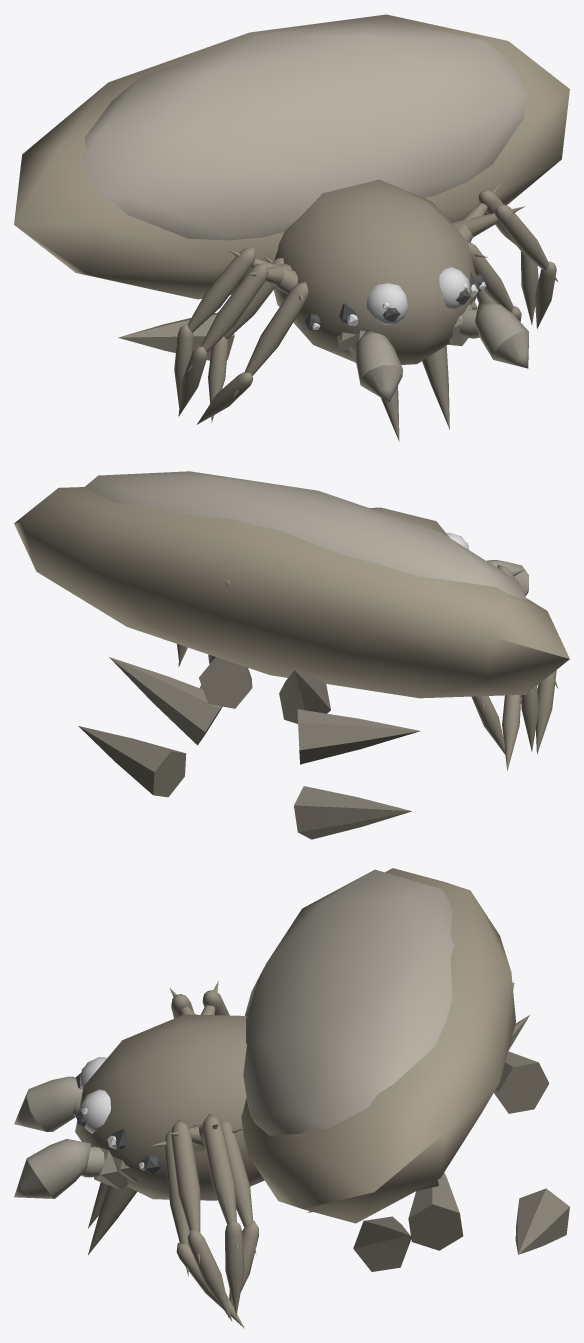
Rendered from thelacantha-brevispina.glb.
3 views of the same model, one above another, from view 1: azimuth 30°, elevation 25°; view 2: azimuth 150°, elevation 25°; view 3: azimuth 270°, elevation 25° (orthographic). The views are drawn at different scales.
Parts seen in each view (by area): view 1: abdomen, cephalothorax, leg2-r0, leg1-r0, leg3-r0, leg2-l0, palp-l1, palp-r1, leg1-l0, leg0-r0, eye0-r, leg3-l0 (+2 smaller); view 2: abdomen, leg2-r0, leg3-r0, leg0-r0, leg1-r0, cephalothorax; view 3: abdomen, cephalothorax, leg2-l0, leg1-l0, palp-l1, palp-r1, leg0-l0, leg3-l0, fang-l, eye0-l.
Boxes of the visible parts, bbox=[...] form: abdomen: bbox=[14, 14, 569, 360]; cephalothorax: bbox=[274, 179, 479, 364]; leg2-r0: bbox=[178, 263, 291, 416]; leg1-r0: bbox=[173, 248, 297, 407]; leg3-r0: bbox=[197, 282, 308, 424]; leg2-l0: bbox=[451, 204, 557, 328]; palp-l1: bbox=[475, 302, 528, 368]; palp-r1: bbox=[356, 330, 402, 402]; leg1-l0: bbox=[456, 183, 538, 324]; leg0-r0: bbox=[208, 256, 283, 422]; eye0-r: bbox=[367, 283, 407, 324]; leg3-l0: bbox=[468, 242, 521, 322]; abdomen: bbox=[14, 471, 569, 839]; leg2-r0: bbox=[497, 565, 558, 754]; leg3-r0: bbox=[502, 695, 521, 770]; leg0-r0: bbox=[471, 696, 505, 754]; leg1-r0: bbox=[521, 685, 538, 751]; cephalothorax: bbox=[370, 507, 449, 537]; abdomen: bbox=[241, 868, 569, 1271]; cephalothorax: bbox=[75, 1014, 264, 1200]; leg2-l0: bbox=[170, 1119, 232, 1321]; leg1-l0: bbox=[192, 1113, 244, 1315]; palp-l1: bbox=[14, 1139, 90, 1198]; palp-r1: bbox=[14, 1076, 82, 1131]; leg0-l0: bbox=[220, 1120, 258, 1317]; leg3-l0: bbox=[151, 1129, 244, 1328]; fang-l: bbox=[88, 1185, 136, 1254]; eye0-l: bbox=[75, 1089, 110, 1133].
Size of the model in its own units: 0.5146 by 0.2797 by 0.4127.
